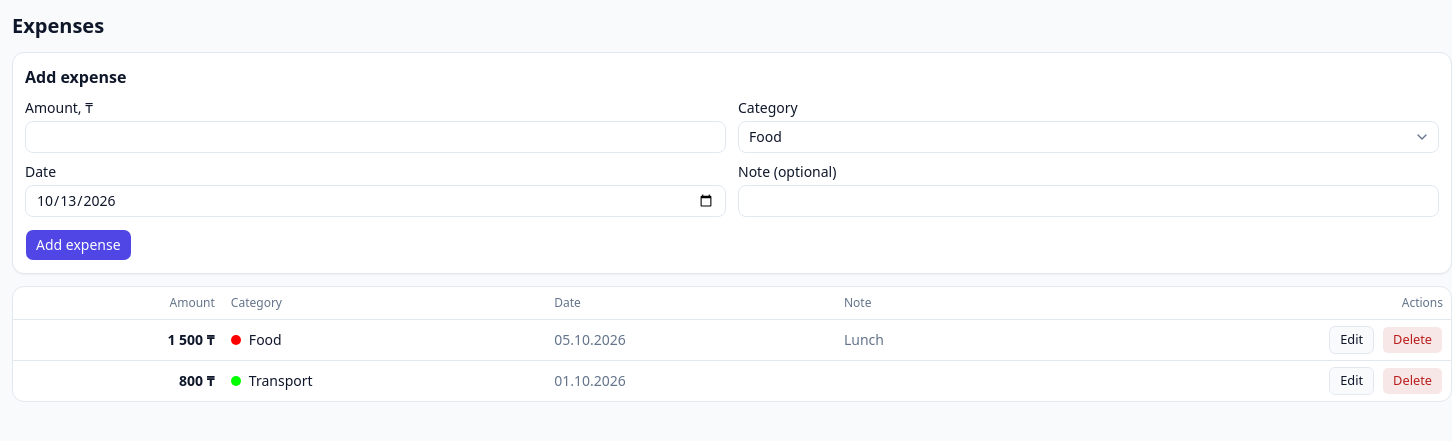
Test: ExpensesPage › rejects a zero amount inline without a request
Expected: the table is shown, [13,287,1451,400]
Type "0" into the field labelled "Amount, ₸" at (376,137), box [25,121,726,153]
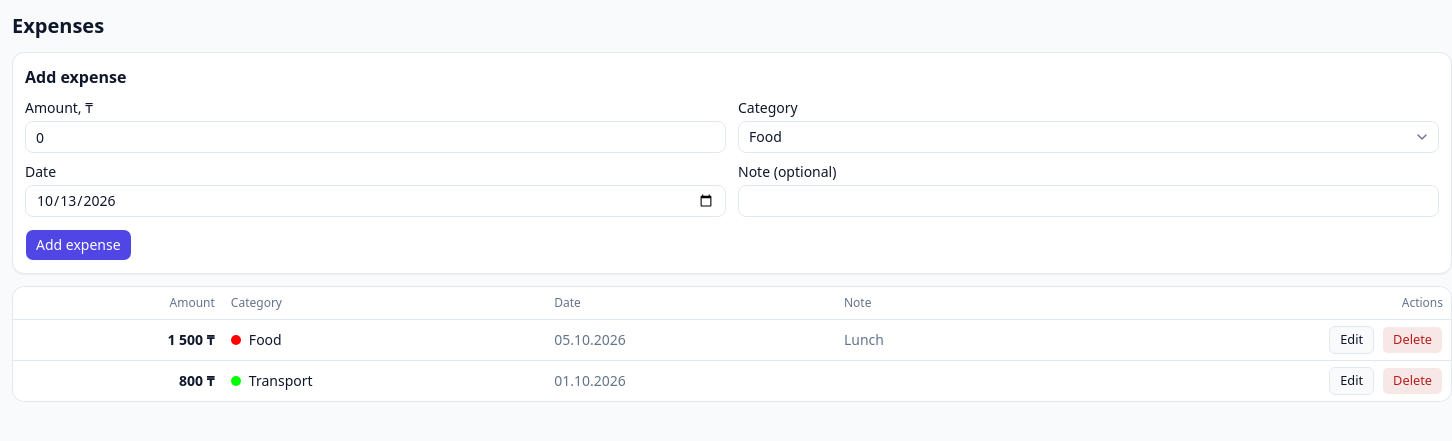
Click the button "Add expense" at (78,245), box [25,229,132,261]
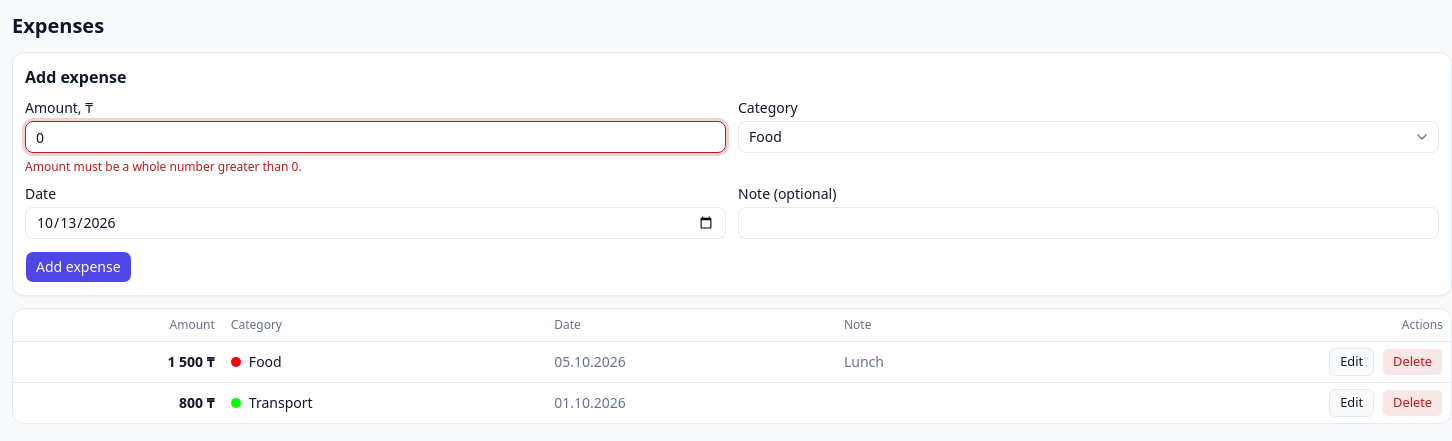
Expected: the text "Amount must be a whole number greater than 0." is shown, [25,158,302,175]
